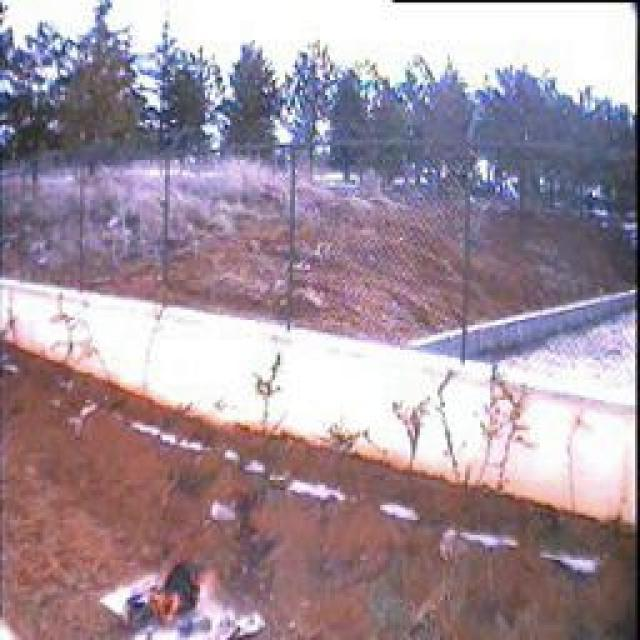Fire: (132, 565, 217, 638)
